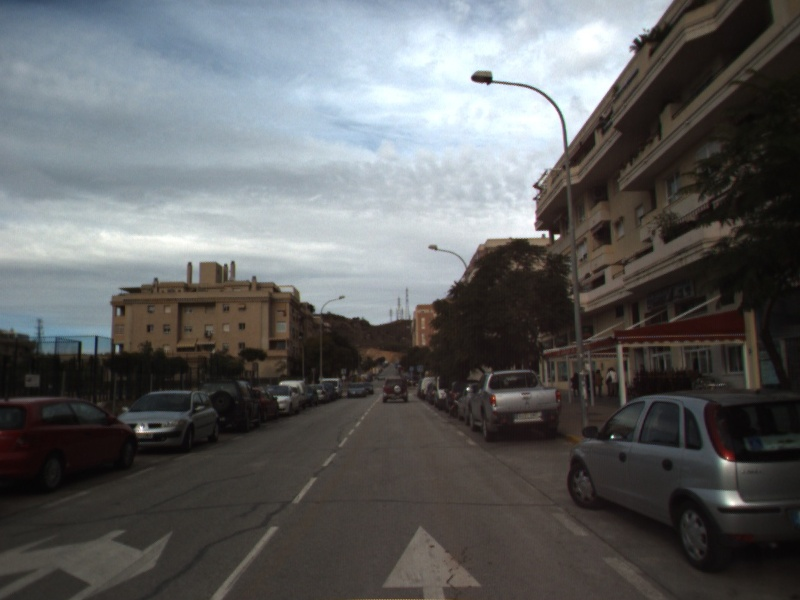STRAIGHT: (379, 523, 485, 600)
